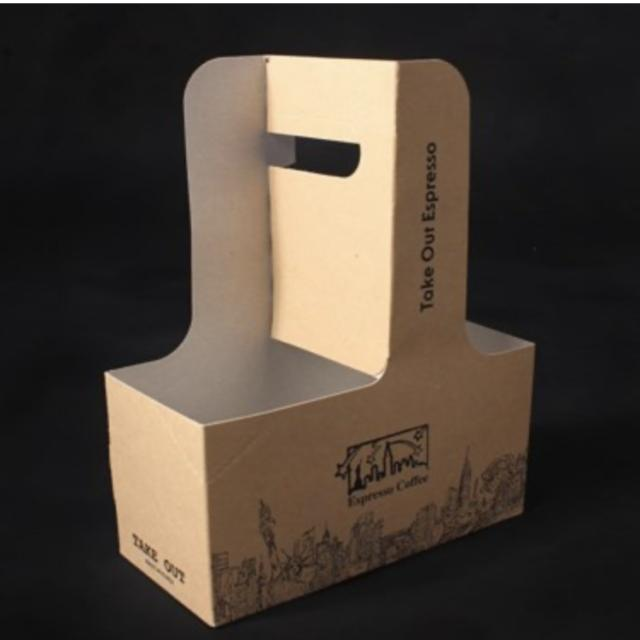biodegradable: (100, 21, 569, 637)
